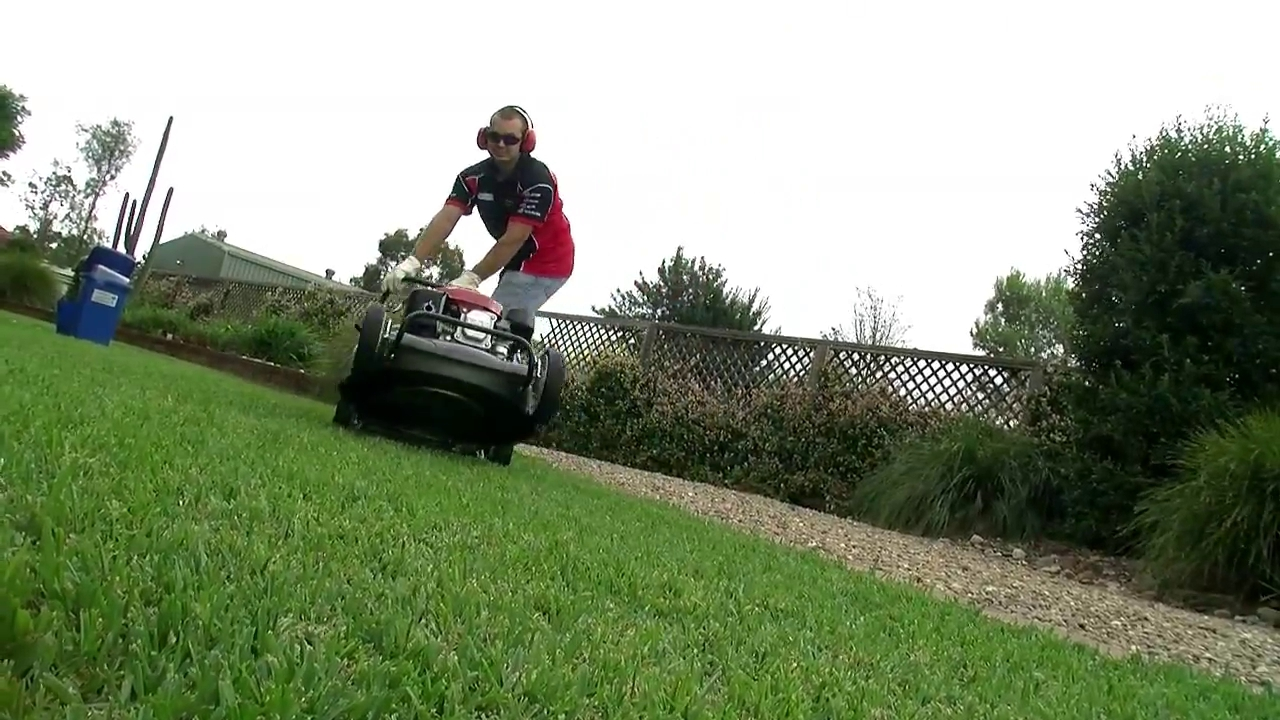person: (381, 106, 575, 337)
